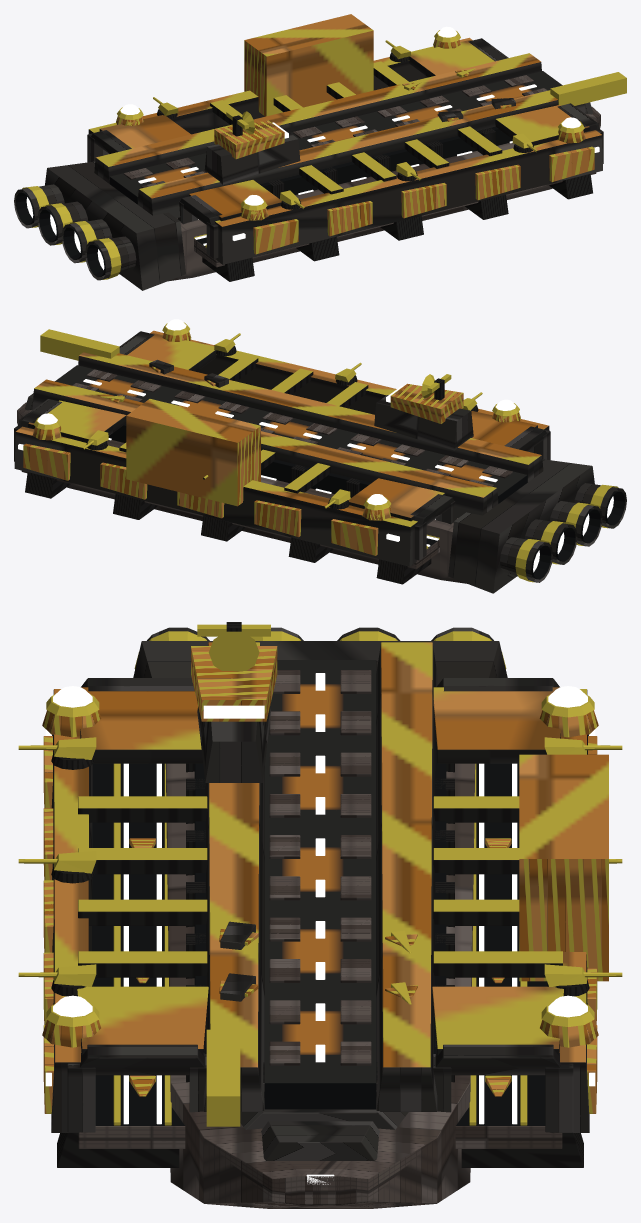
Rendered from carrier.glb.
The picture shows the model from 3 angles, top to bottom: view 1: azimuth 30°, elevation 25°; view 2: azimuth 150°, elevation 25°; view 3: azimuth 270°, elevation 25°; orthographic projection. The views are drawn at different scales.
Parts seen in each view (by area): view 1: hull_body, engine_block, sensor_island, shield_domes, weapon_turrets; view 2: hull_body, engine_block, sensor_island, shield_domes, weapon_turrets; view 3: hull_body, sensor_island, engine_block, shield_domes, weapon_turrets.
Boxes of the visible parts, box(x1,y1,x2,y2) form: hull_body: box(87, 14, 626, 281); engine_block: box(14, 161, 185, 290); sensor_island: box(204, 111, 300, 184); shield_domes: box(116, 26, 585, 220); weapon_turrets: box(153, 40, 538, 209); hull_body: box(14, 329, 550, 584); engine_block: box(448, 459, 626, 593); sensor_island: box(374, 374, 473, 450); shield_domes: box(32, 319, 520, 520); weapon_turrets: box(82, 333, 482, 509); hull_body: box(43, 642, 608, 1208); sensor_island: box(191, 622, 277, 782); engine_block: box(133, 627, 507, 684); shield_domes: box(42, 686, 598, 1047); weapon_turrets: box(18, 737, 622, 996).
Size of the model in its own units: 55 by 13.45 by 26.7.
1 material, 1 textured.
